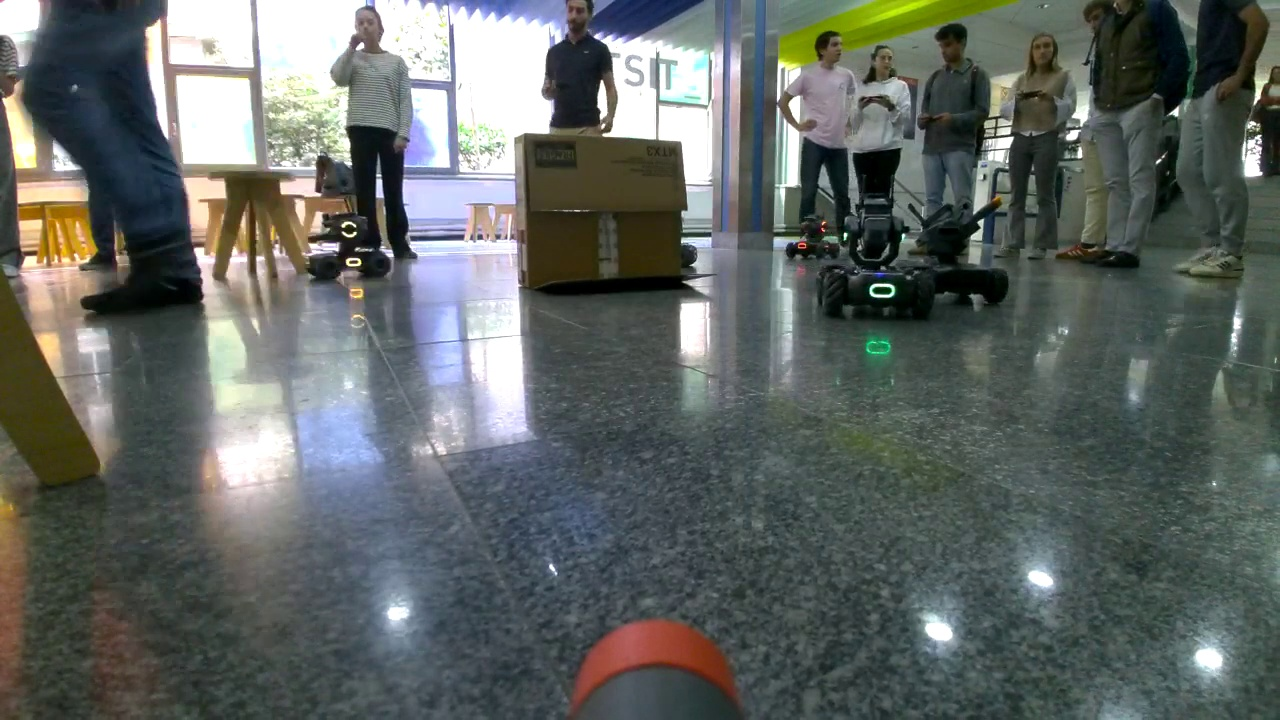robot: (816, 197, 938, 323), (912, 190, 1011, 306), (300, 207, 392, 280), (784, 210, 844, 261)
